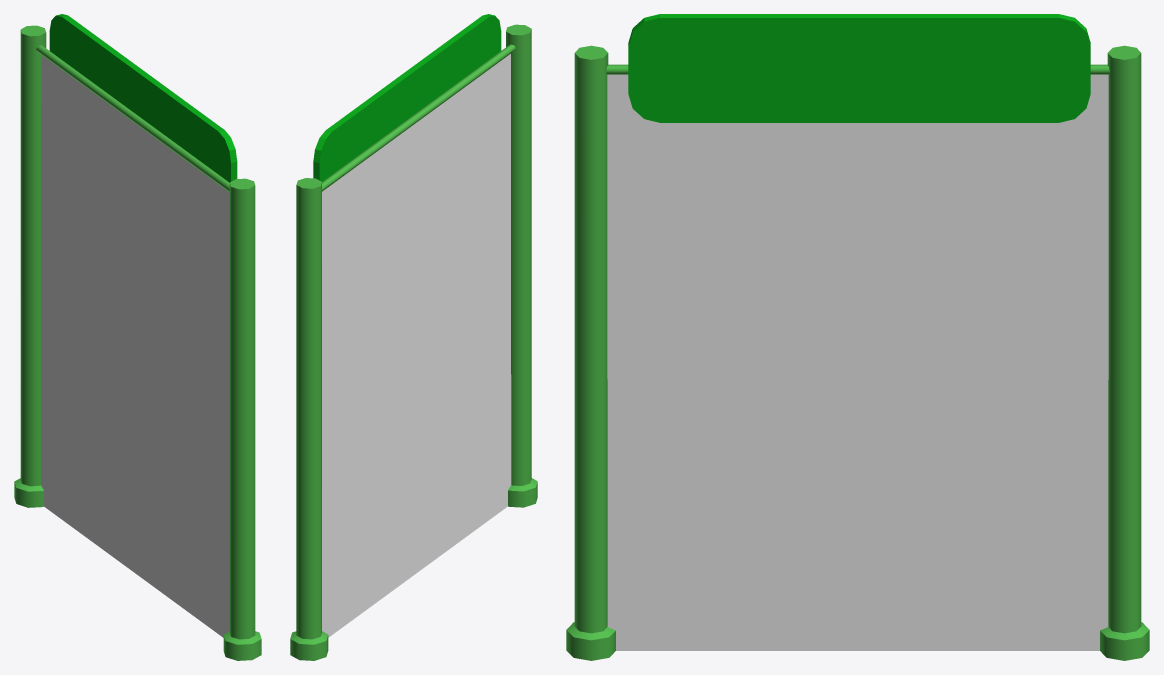
The model's file is green gate.fbx.
3 views of the same model, side by side, from view 1: azimuth 30°, elevation 25°; view 2: azimuth 150°, elevation 25°; view 3: azimuth 270°, elevation 25° (orthographic). The views are drawn at different scales.
Visible parts, largest first — view 1: plane, green_gate; view 2: plane, green_gate; view 3: plane, green_gate.
Boxes of the visible parts, x1,y1,x2,y2 form: plane: (41,55,229,637); green_gate: (14,14,261,660); plane: (322,54,511,637); green_gate: (290,14,537,660); plane: (607,74,1108,650); green_gate: (566,14,1149,660).
Bounding box in the file's own units: 0.2406 × 3.37 × 2.79.
1 material, 1 textured.
